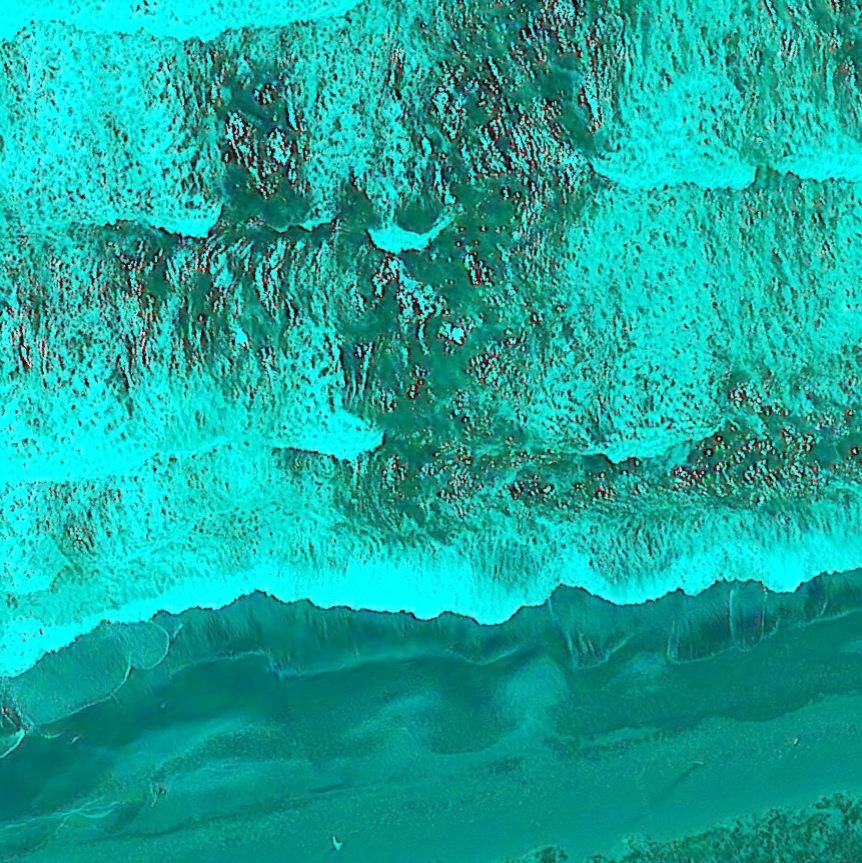rip_current: (305, 56, 600, 519)
